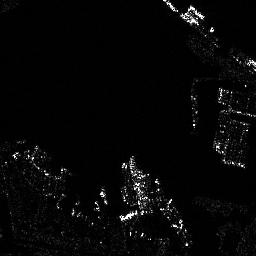ship: (187, 5, 206, 19)
